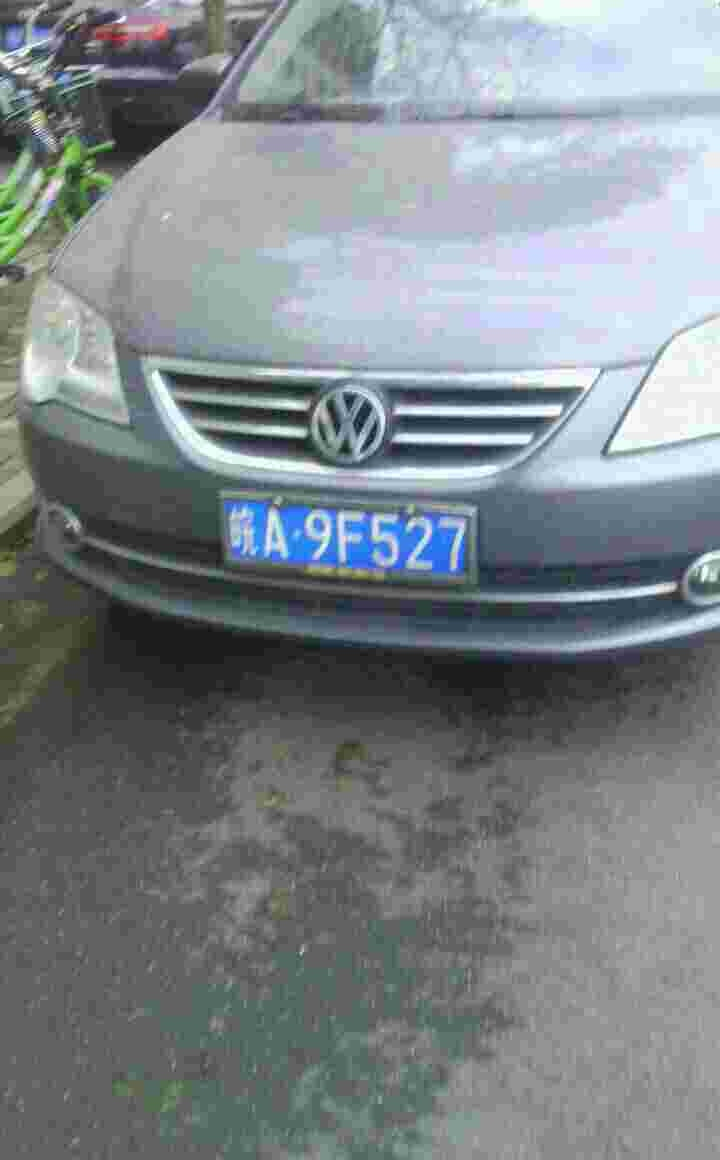plate: (221, 488, 481, 588)
